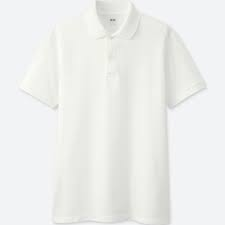S_polo shirt: (26, 3, 196, 225)
